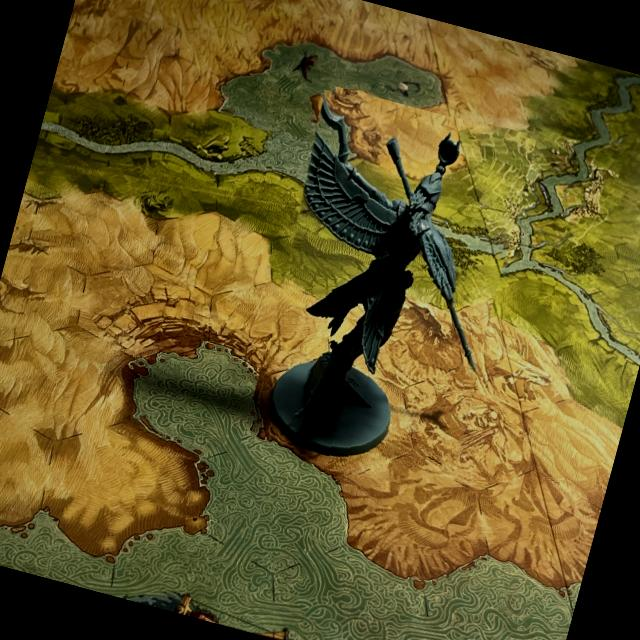isis: (235, 82, 541, 500)
